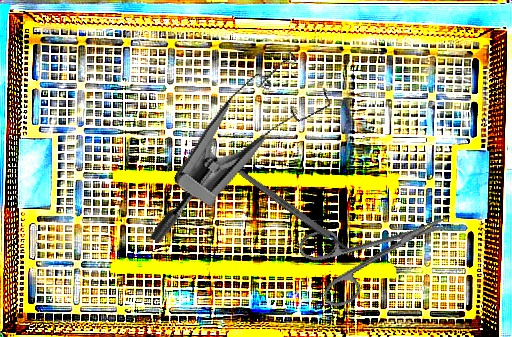Iris Scissors: (296, 187, 464, 313)
Scalpel Handle: (237, 168, 351, 253)
Speculum: (147, 29, 344, 284)
